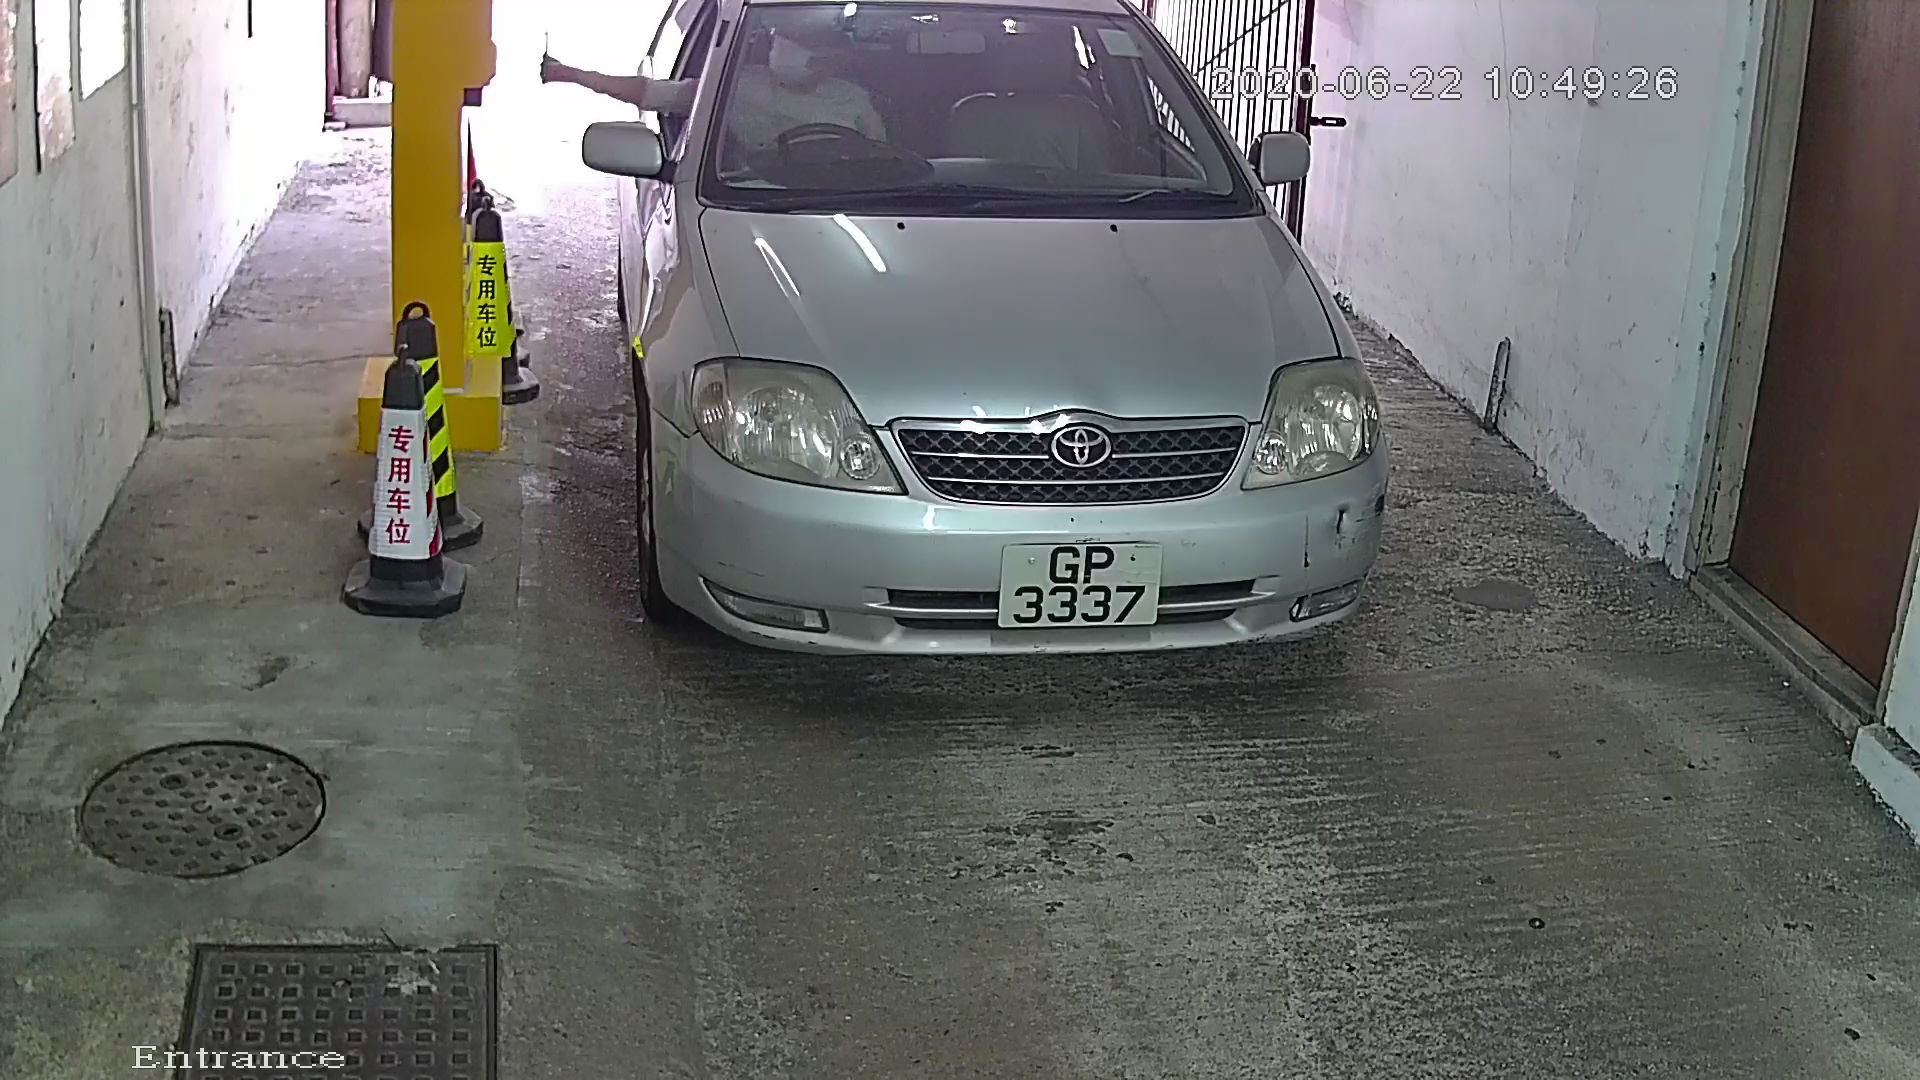privatecar: (582, 3, 1458, 709)
